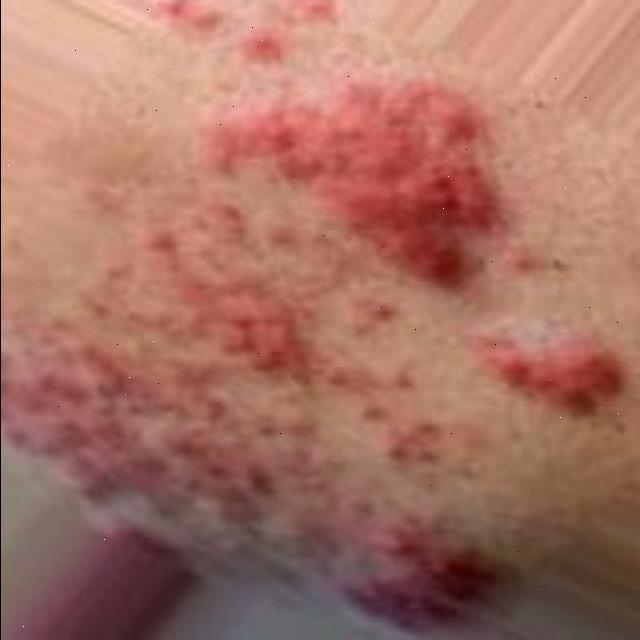Shingles: (0, 0, 623, 625)
